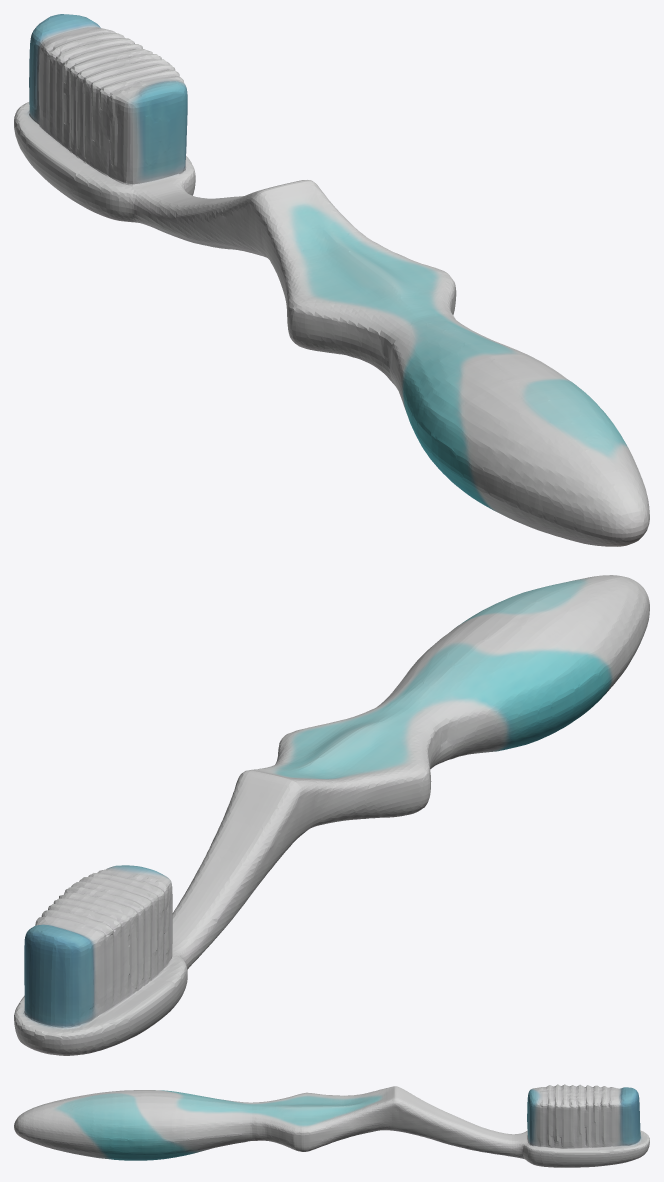
The model's file is obj2_scaled.glb.
3 renders of one model, top to bottom at view 1: azimuth 30°, elevation 25°; view 2: azimuth 150°, elevation 25°; view 3: azimuth 270°, elevation 25°, orthographic. The views are drawn at different scales.
Visible parts, largest first — view 1: world; view 2: world; view 3: world.
Part boxes in pixels (x1,y1,x2,y2): world: [14, 14, 649, 546]; world: [14, 575, 649, 1055]; world: [14, 1084, 649, 1167].
Size of the model in its own units: 0.018 by 0.0138 by 0.1172.
